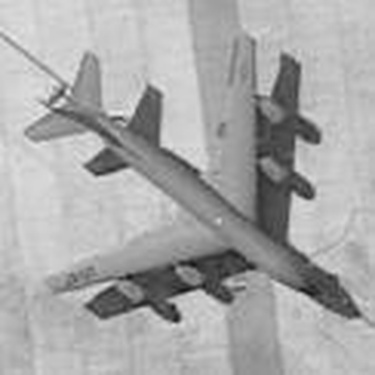airplane: (7, 21, 366, 348)
